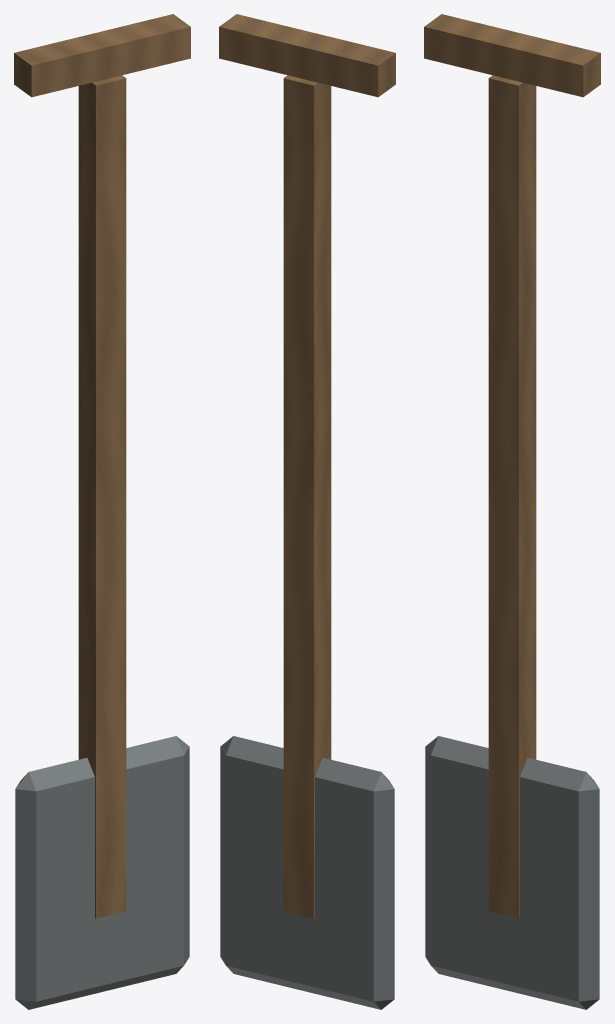
The model's file is shovel.glb.
3 views of the same model, side by side, from view 1: azimuth 30°, elevation 25°; view 2: azimuth 150°, elevation 25°; view 3: azimuth 330°, elevation 25° (orthographic).
Visible parts, largest first — view 1: shovel; view 2: shovel; view 3: shovel.
Boxes of the visible parts, left/top/right/bottom form: shovel: left=14, top=14, right=190, bottom=1009; shovel: left=219, top=14, right=395, bottom=1009; shovel: left=424, top=14, right=600, bottom=1009.
Size of the model in its own units: 0.23 by 1.2 by 0.04.
2 materials, 1 textured.
